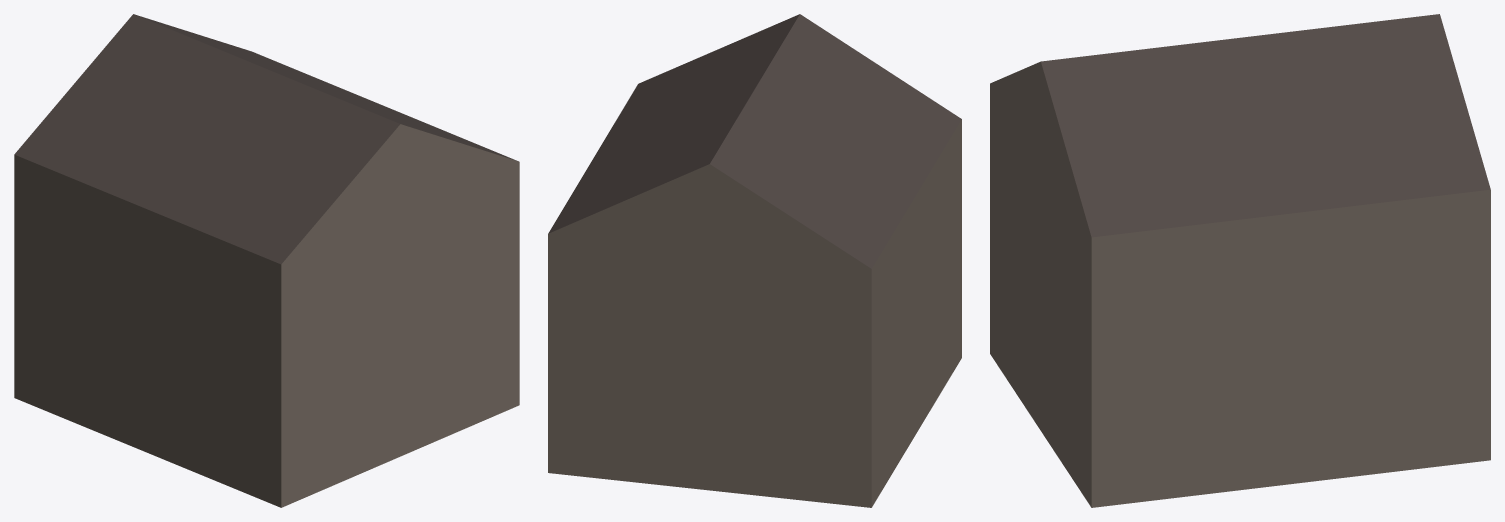
3 views of the same model, side by side, from view 1: azimuth 30°, elevation 25°; view 2: azimuth 150°, elevation 25°; view 3: azimuth 270°, elevation 25° (orthographic). The views are drawn at different scales.
Visible parts, largest first — view 1: HP-w446937281; view 2: HP-w446937281; view 3: HP-w446937281.
Boxes of the visible parts, box(x1,y1,x2,y2) form: HP-w446937281: box(14, 14, 519, 507); HP-w446937281: box(548, 14, 961, 507); HP-w446937281: box(990, 14, 1490, 507).
Size of the model in its own units: 9.59 by 8.2 by 10.07.
